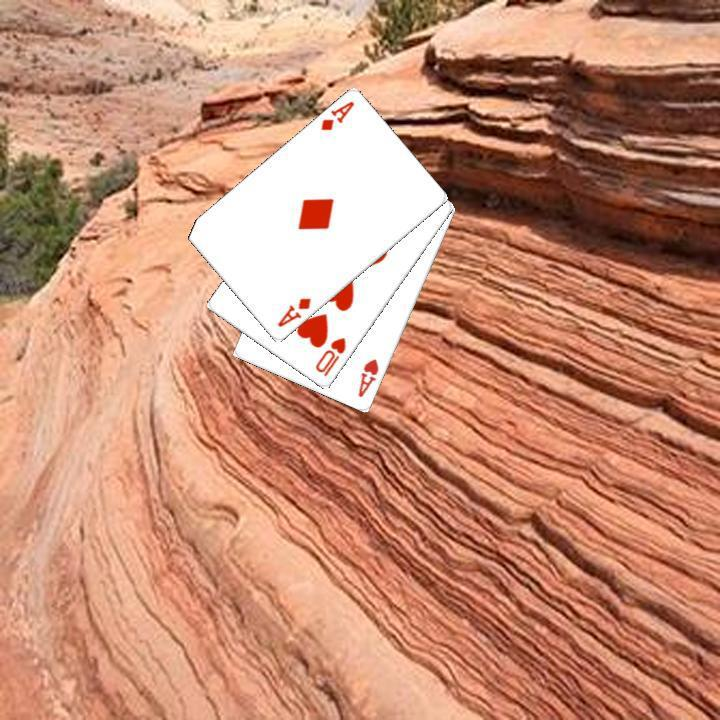10: (311, 333, 348, 379)
A: (273, 294, 313, 330), (316, 97, 356, 133), (354, 354, 381, 400)
